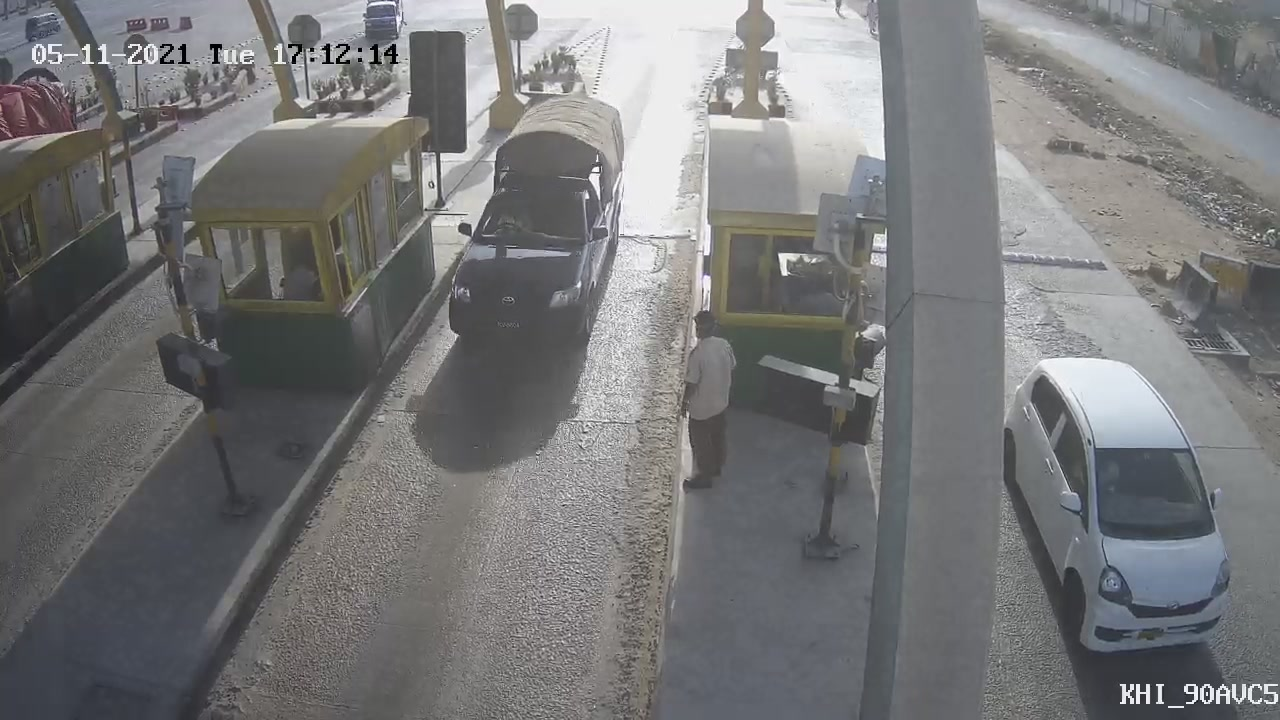F1: (427, 86, 644, 372)
